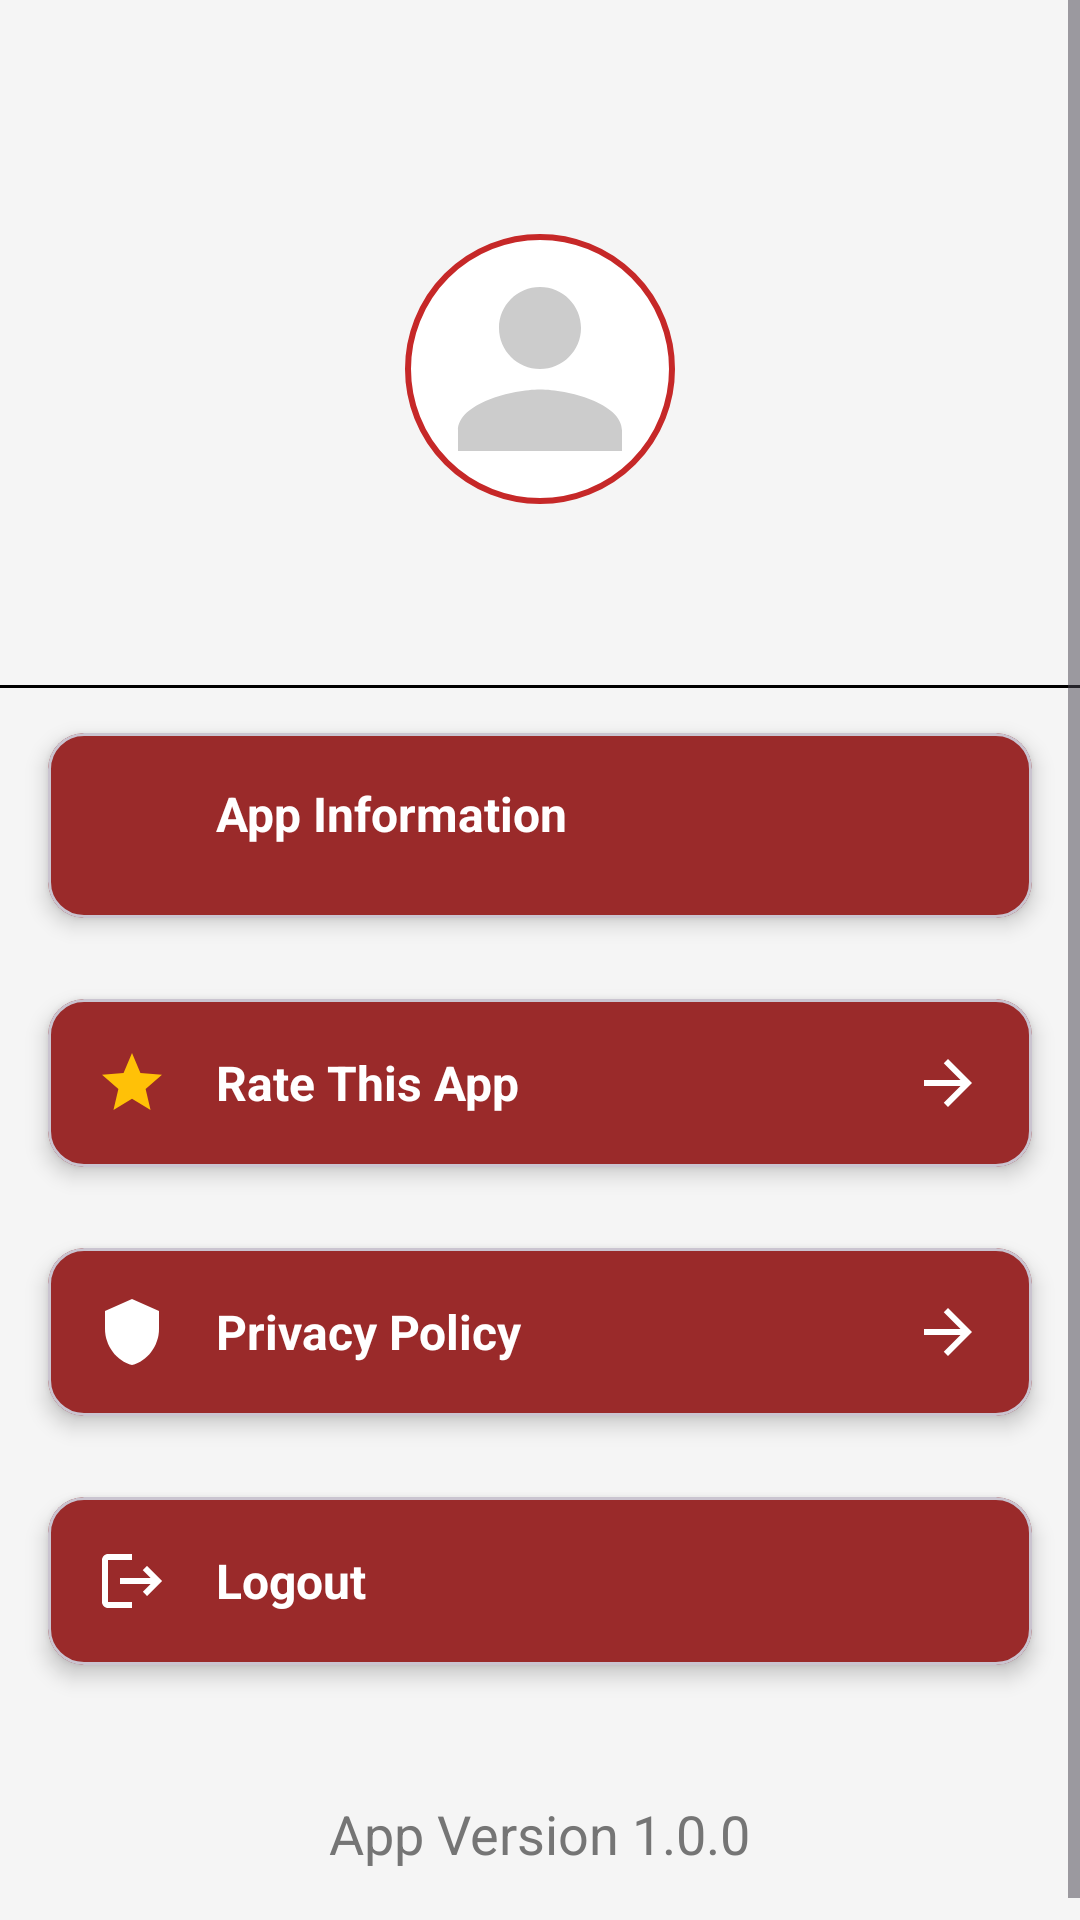

Icons on this 1080 × 1920 Android screen, each with the point to tap as point (x, y):
arrow forward: point (948, 1083), point (948, 1332)
star: point (132, 1081)
